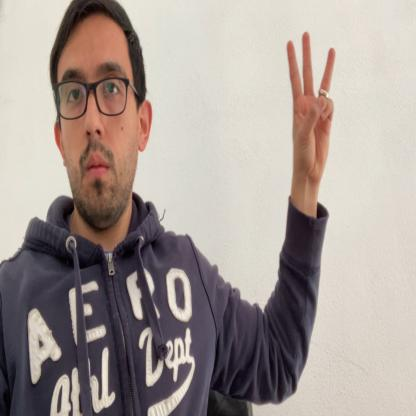W: (286, 31, 335, 187)
